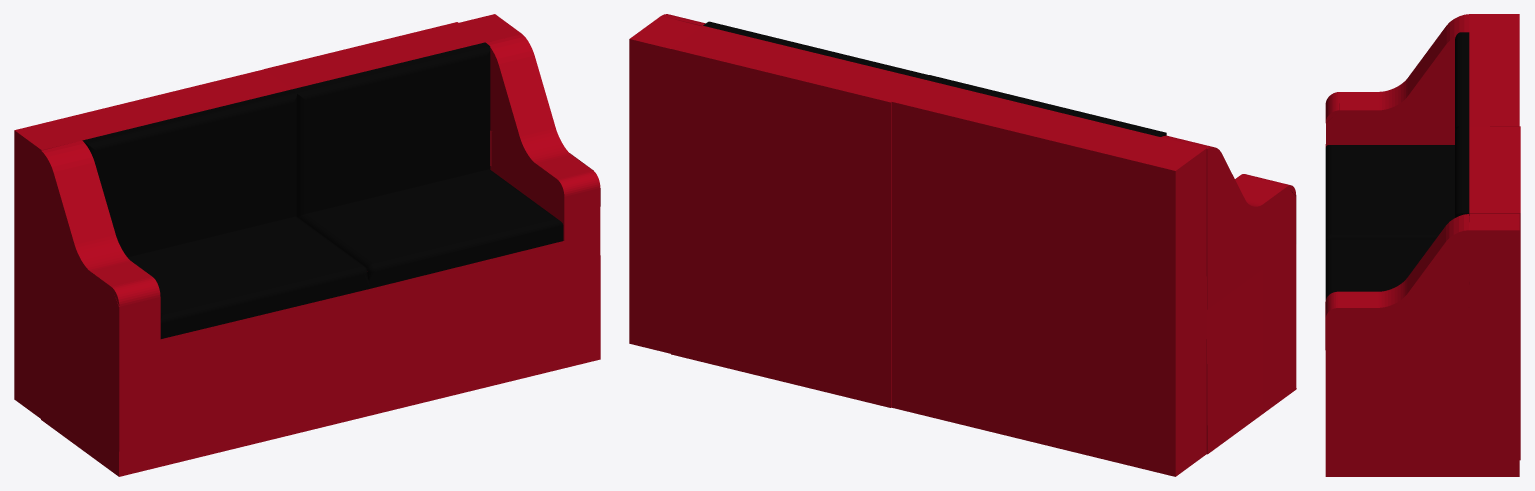
Rendered from Sofa (1).fbx.
3 renders of one model, left to right at view 1: azimuth 30°, elevation 25°; view 2: azimuth 150°, elevation 25°; view 3: azimuth 270°, elevation 25°, orthographic. The views are drawn at different scales.
Visible parts, largest first — view 1: Cube; view 2: Cube; view 3: Cube.
Boxes of the visible parts, x1,y1,x2,y2 form: Cube: (14,14,600,476); Cube: (629,14,1296,476); Cube: (1325,14,1520,476).
Size of the model in its own units: 711 by 380 by 272.
